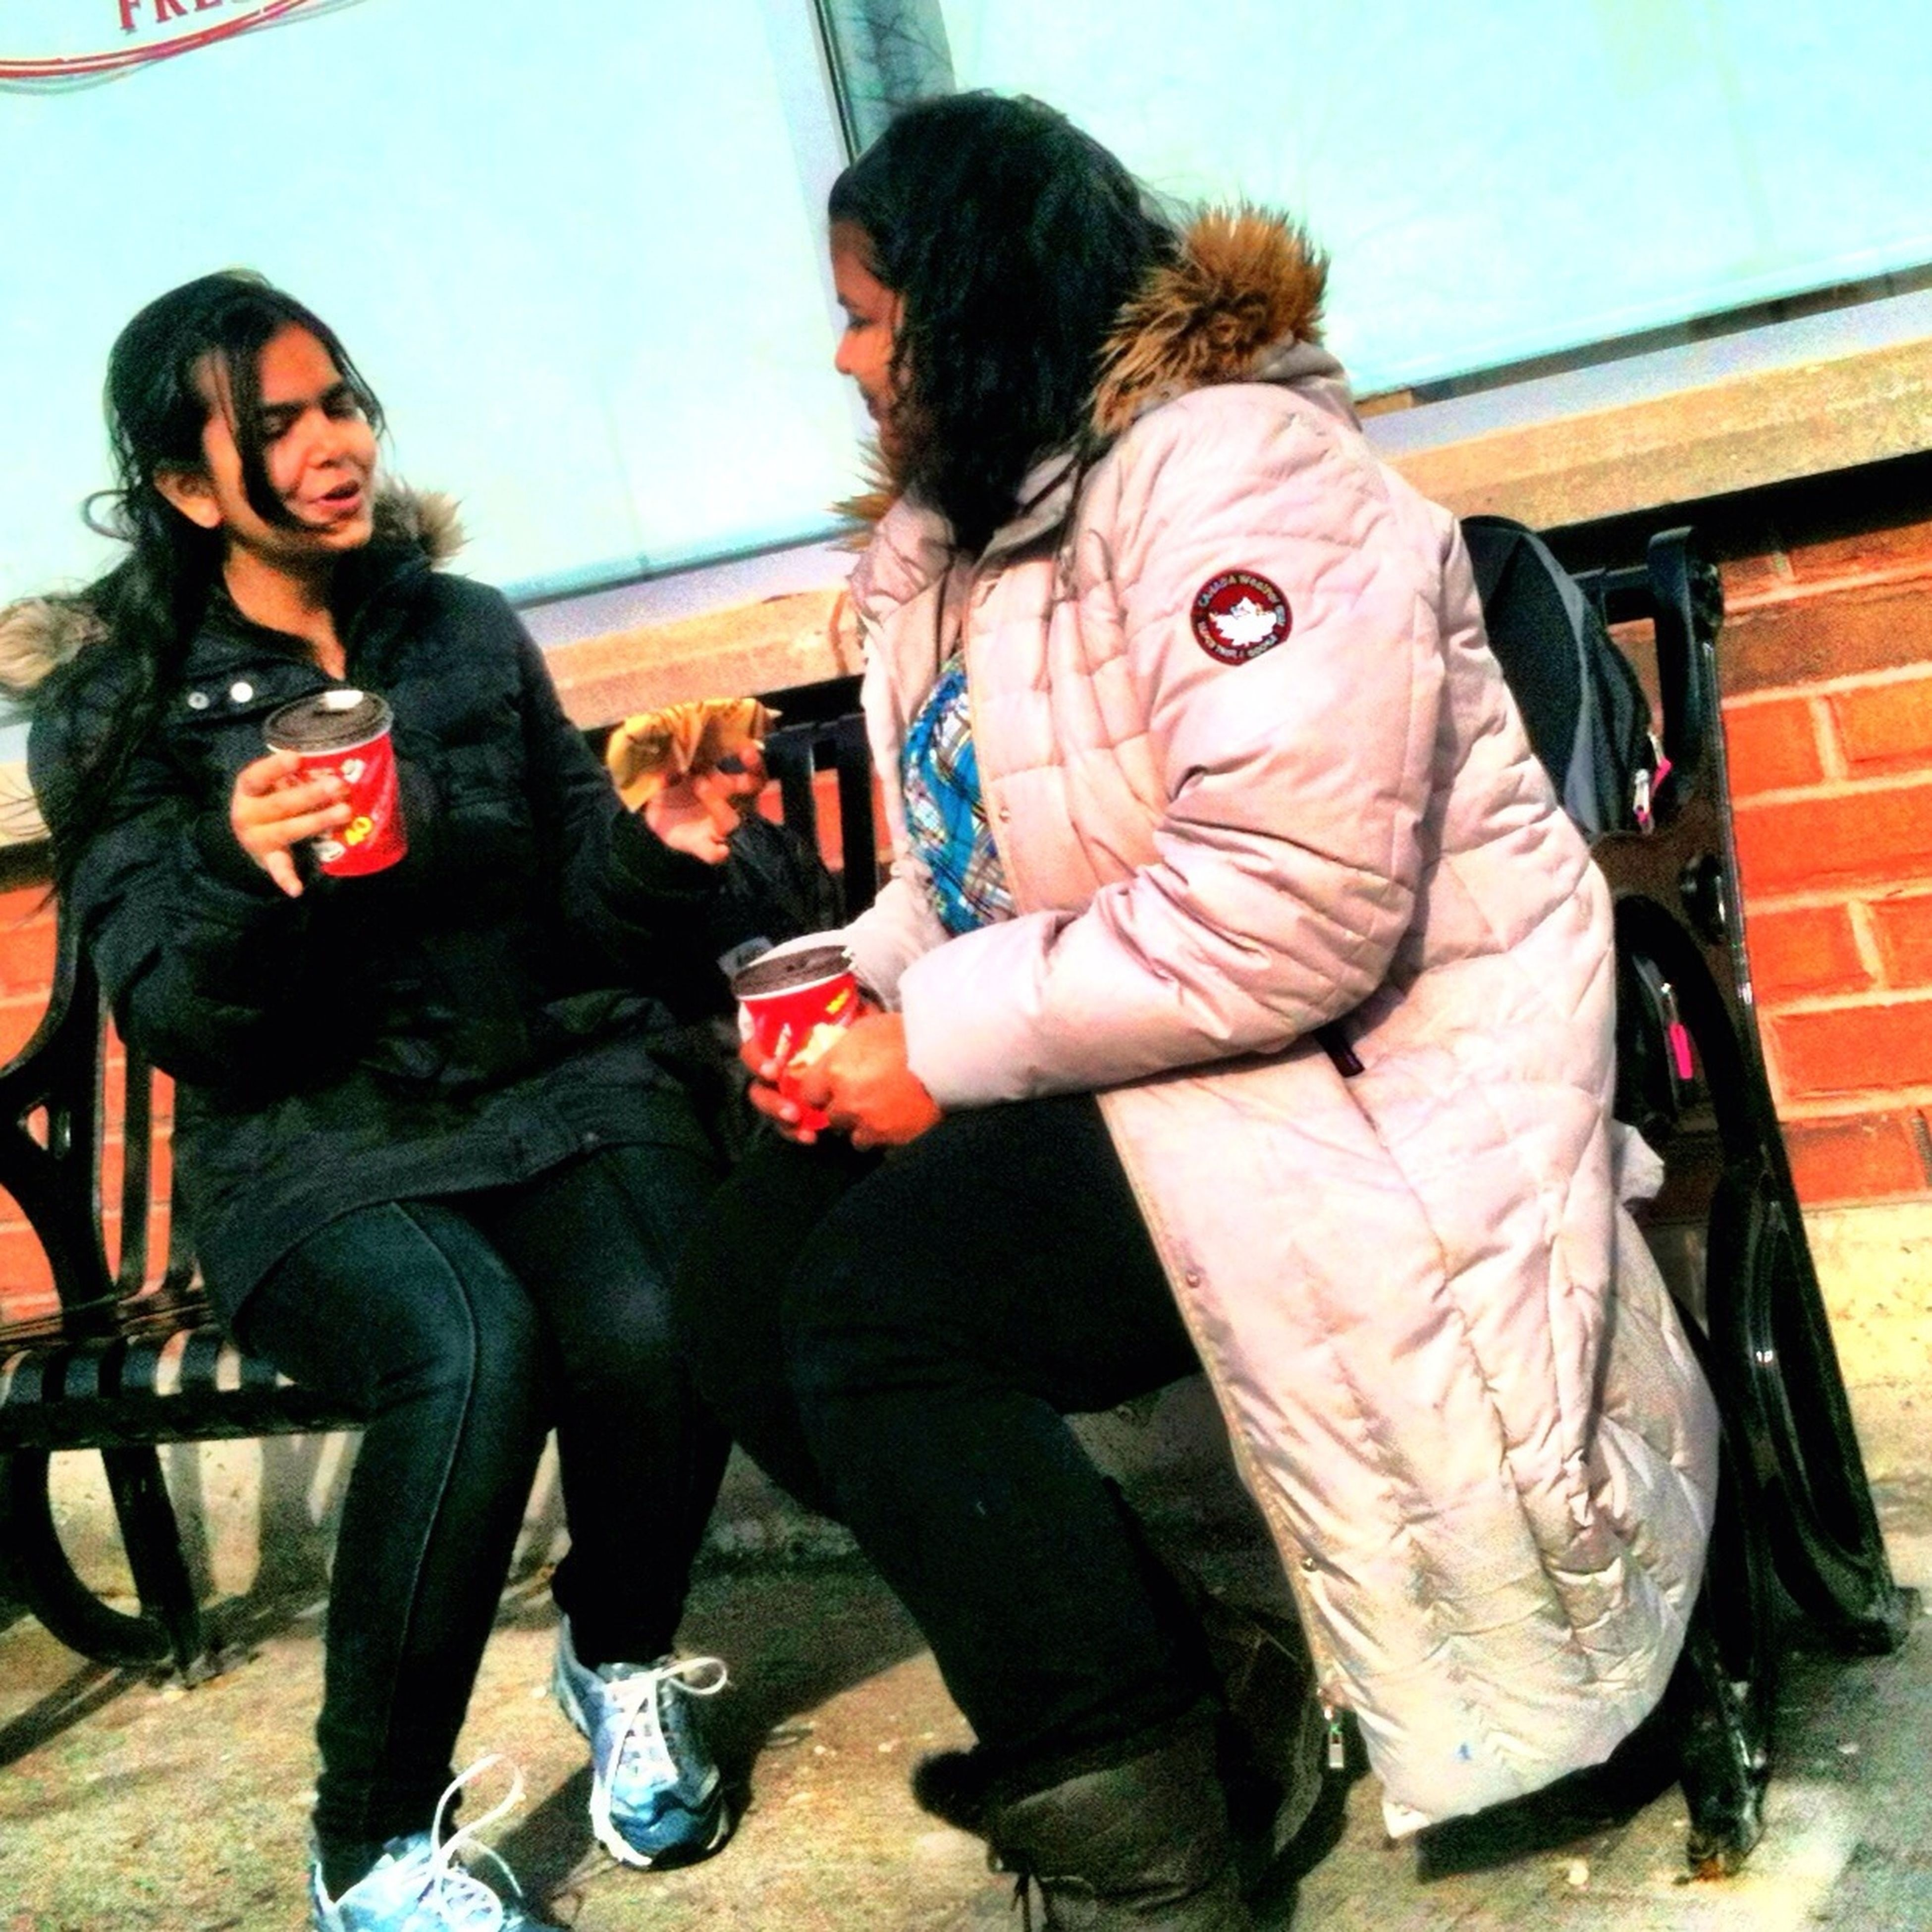face_no_mask: (834, 99, 1095, 483), (152, 285, 378, 572)
